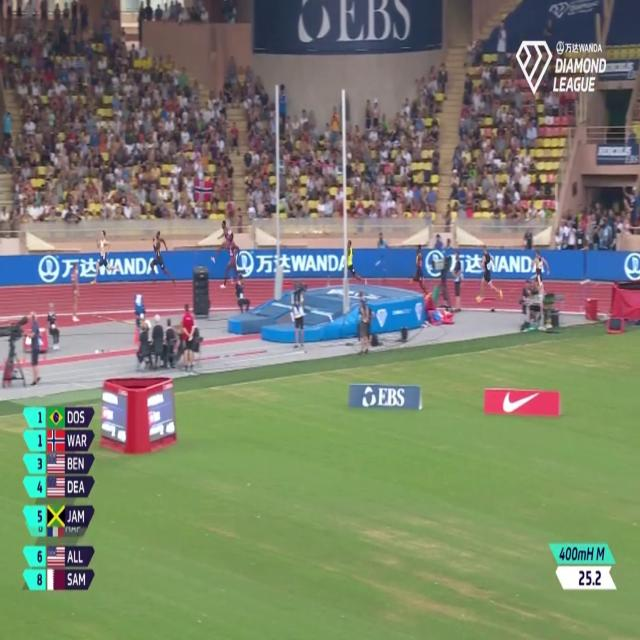athlete: (476, 243, 504, 318), (147, 229, 180, 288), (90, 226, 121, 284), (220, 230, 248, 290), (343, 236, 370, 287), (411, 241, 434, 299), (529, 246, 553, 295), (211, 218, 231, 263)
hurdle: (576, 275, 592, 308)
